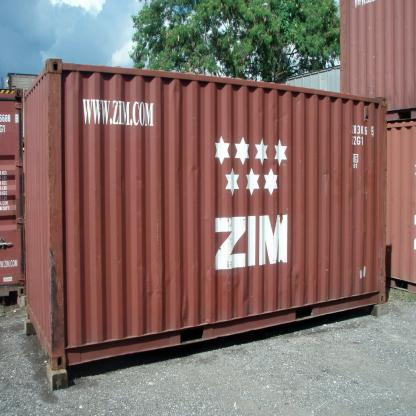Damage: (43, 236, 68, 374), (46, 59, 61, 237), (221, 251, 251, 308), (254, 101, 288, 130), (347, 140, 358, 216), (282, 257, 302, 298), (139, 260, 155, 311), (373, 234, 385, 302), (177, 282, 194, 325), (176, 157, 200, 178), (321, 157, 336, 188), (320, 257, 330, 289)
